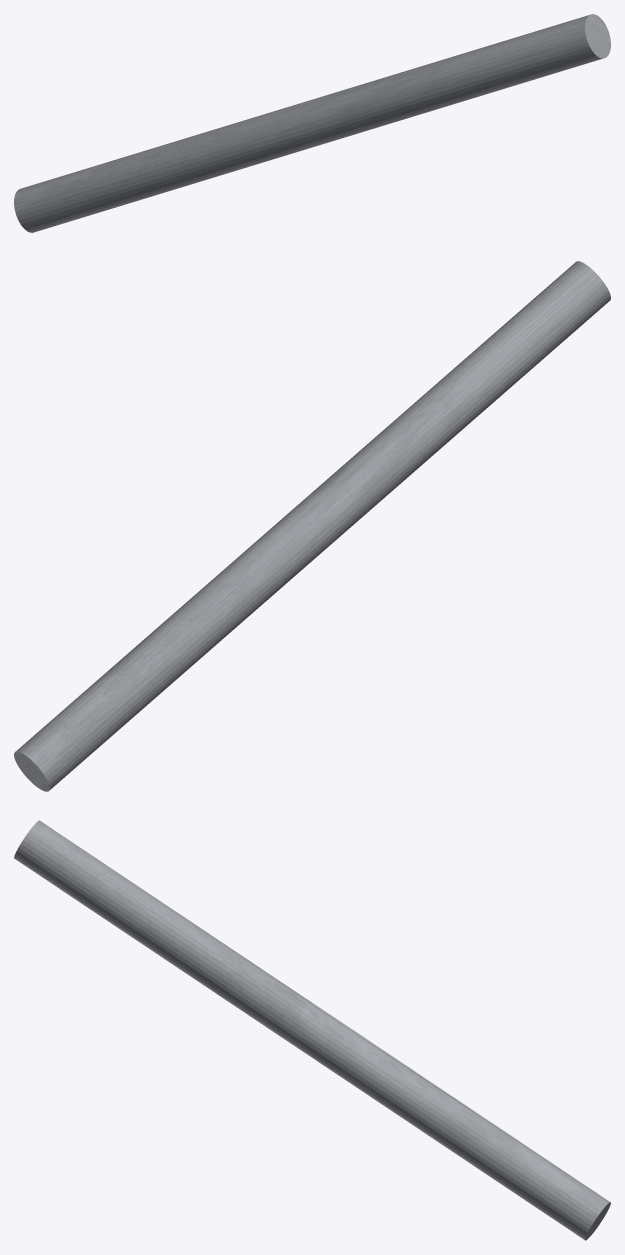
The model's file is mhw_culturalibre_hero_kalistick_lefthanded.glb.
3 renders of one model, top to bottom at view 1: azimuth 90°, elevation 25°; view 2: azimuth 150°, elevation 25°; view 3: azimuth 270°, elevation 25°, orthographic. The views are drawn at different scales.
Parts seen in each view (by area): view 1: mhw_culturalibre_hero_kalistick_lefthanded; view 2: mhw_culturalibre_hero_kalistick_lefthanded; view 3: mhw_culturalibre_hero_kalistick_lefthanded.
Part boxes in pixels (x1,y1,x2,y2): mhw_culturalibre_hero_kalistick_lefthanded: (14, 14, 610, 232); mhw_culturalibre_hero_kalistick_lefthanded: (14, 261, 610, 791); mhw_culturalibre_hero_kalistick_lefthanded: (14, 820, 610, 1240).
Size of the model in its own units: 0.2009 by 0.2426 by 0.4161.
1 material, 1 textured.
